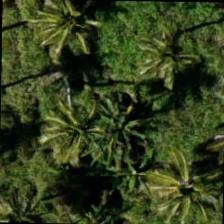Kelapa_Sawit: (121, 10, 213, 102), (30, 84, 122, 176), (130, 136, 224, 223), (22, 0, 114, 69)
